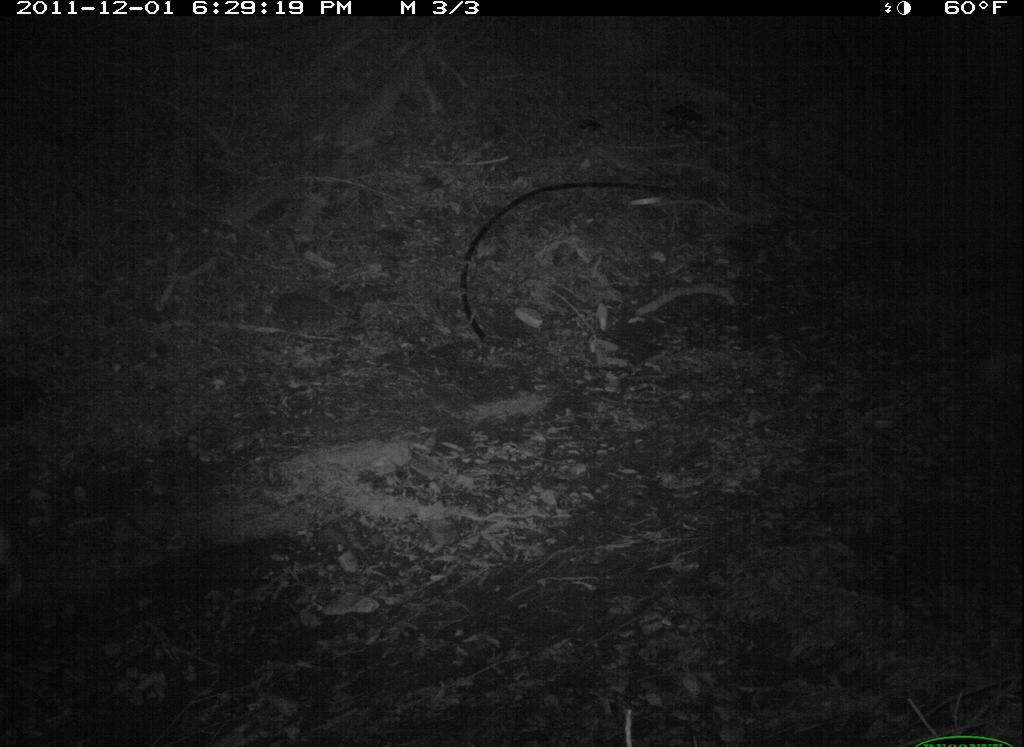cat: (1, 372, 58, 436)
